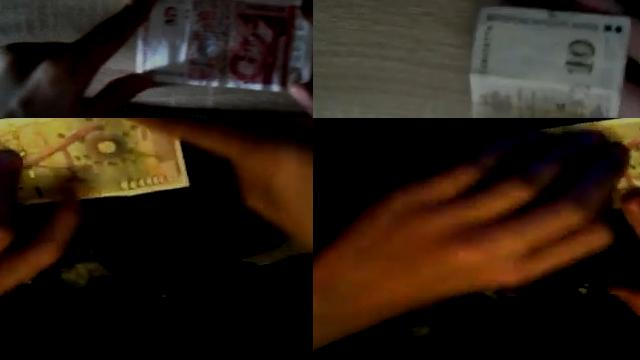10leva: (468, 3, 634, 118), (555, 118, 640, 193)
5leva: (168, 0, 292, 90)
